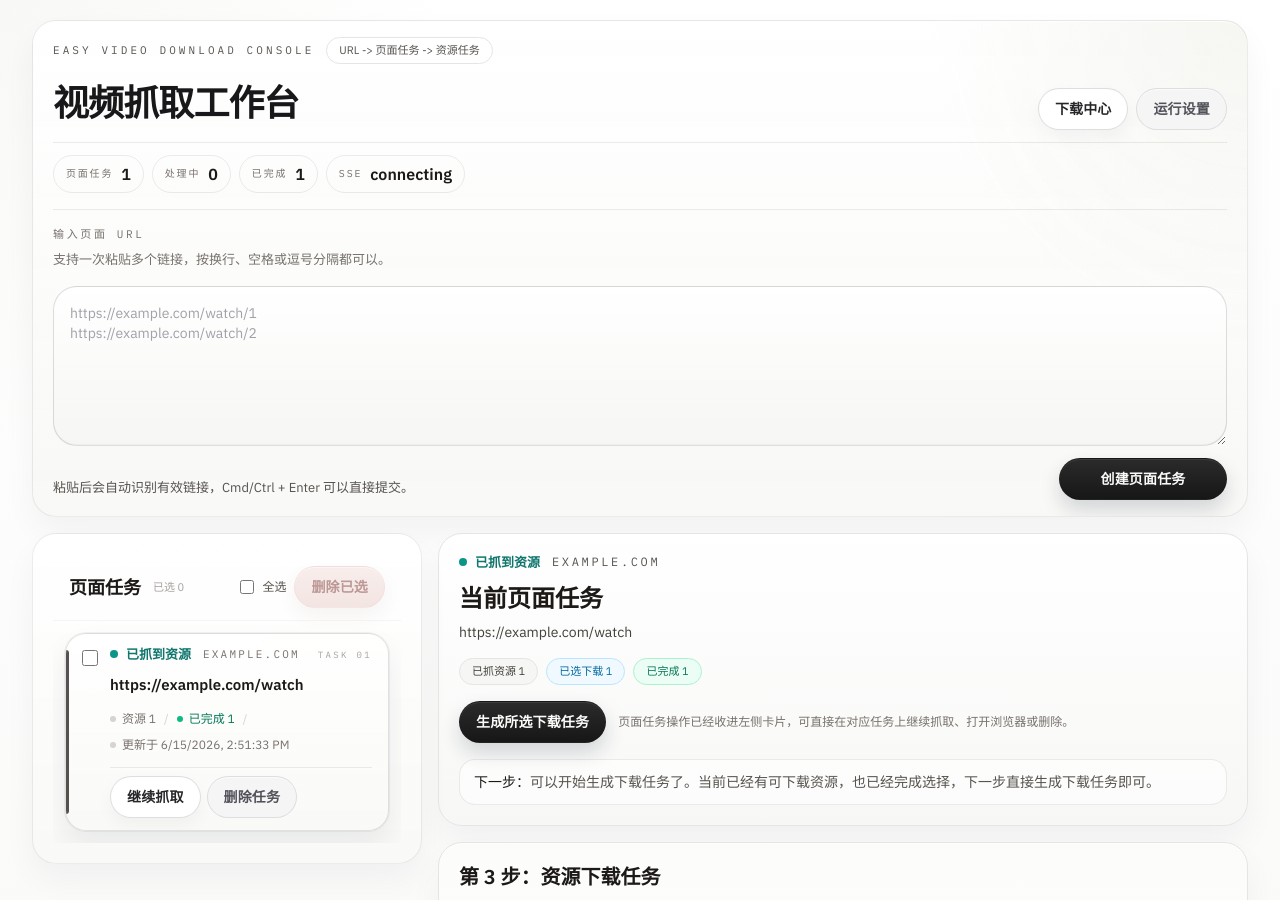
App › shows resource download tasks under the selected page task
Expected: the heading "第 3 步：资源下载任务" is shown, [459,862,660,890]
Click the button "下载中心".
click(1083, 108)  # box [1038,88,1128,130]
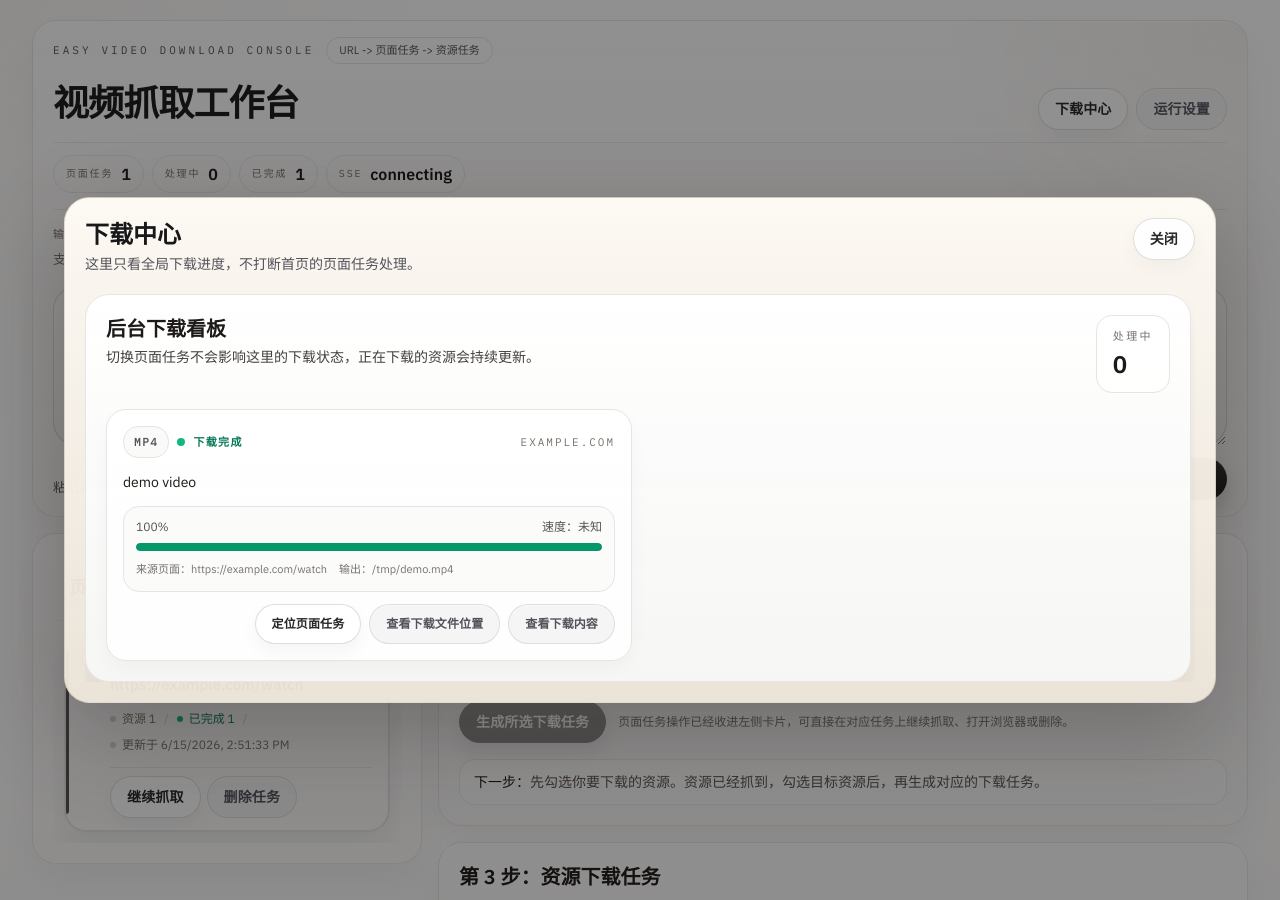
Result: the heading "后台下载看板" is shown at [106,315,226,342]
